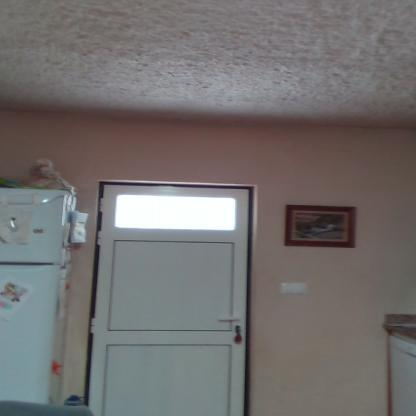door: (100, 184, 248, 415)
hinged: (88, 316, 96, 334), (96, 230, 103, 247), (98, 196, 105, 212)
lever: (219, 315, 242, 324)
